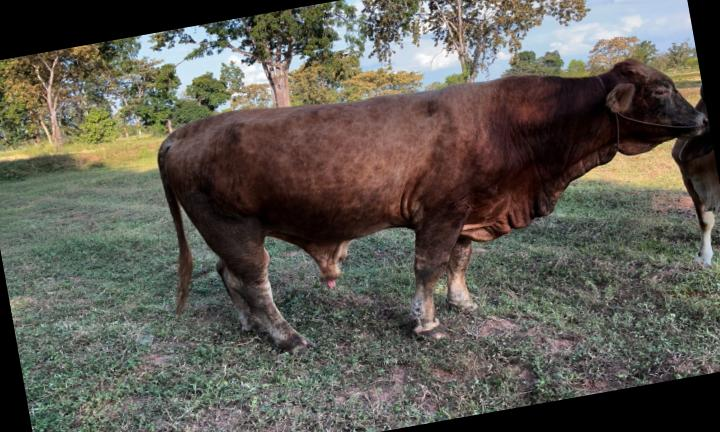Charolais: (158, 60, 706, 352)
